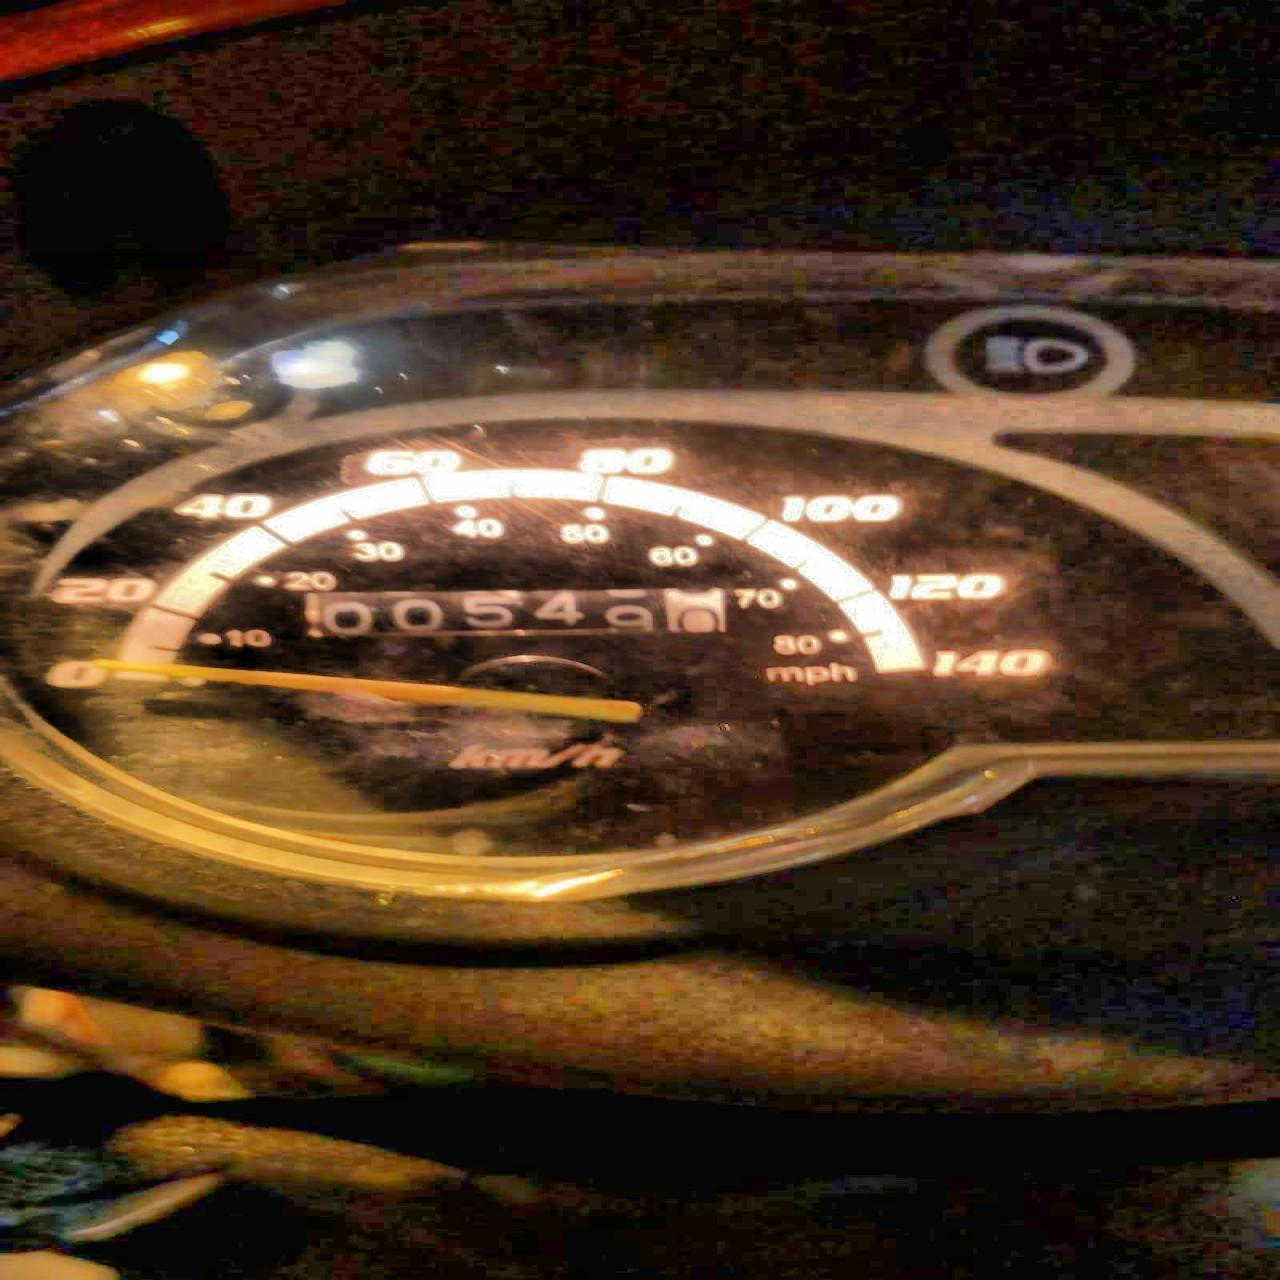0: (388, 597, 447, 633), (319, 600, 376, 636), (674, 605, 720, 638)
4: (532, 591, 586, 626)
5: (457, 595, 518, 628)
9: (601, 602, 653, 639)
odometer: (299, 583, 733, 640)
